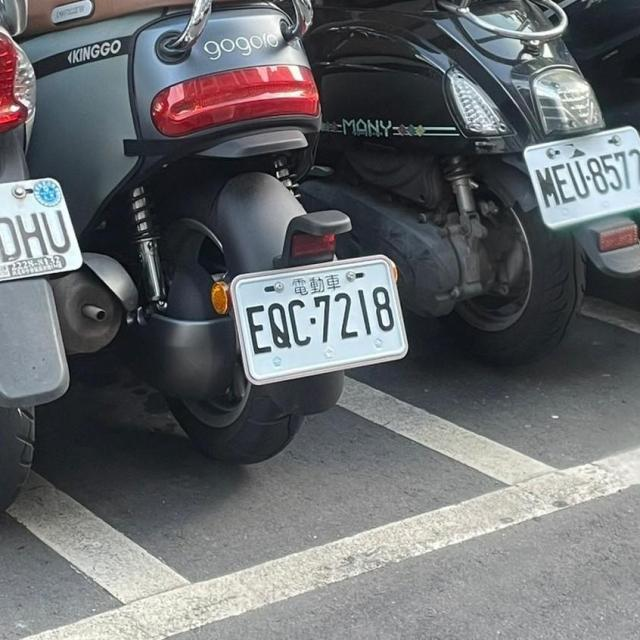W: (221, 252, 423, 391), (516, 120, 640, 227), (0, 175, 86, 298)
